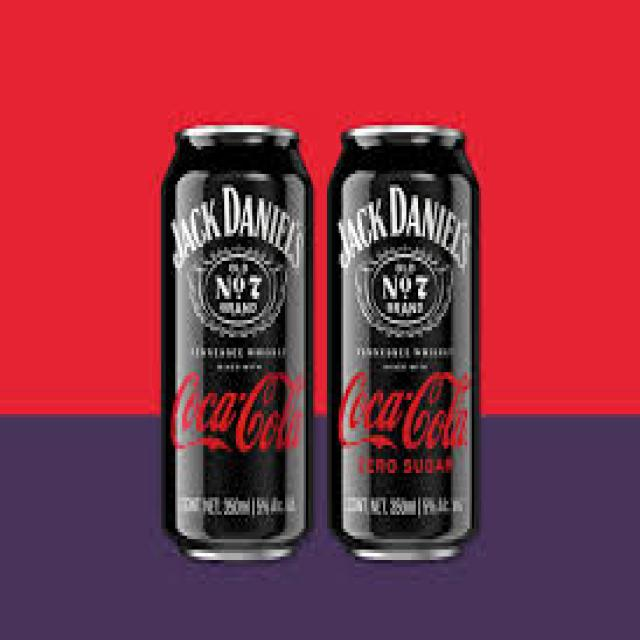Cans: (320, 112, 491, 570), (156, 115, 320, 574)
